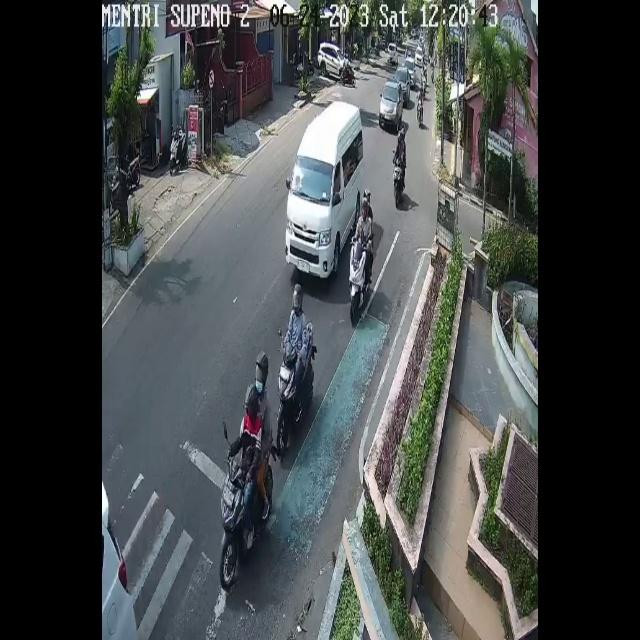bus: (222, 421, 273, 593), (276, 323, 314, 450), (348, 236, 367, 319), (394, 157, 404, 205)
car: (286, 100, 364, 279)
motorcycle: (316, 42, 351, 81), (379, 80, 402, 136), (393, 66, 410, 104)
